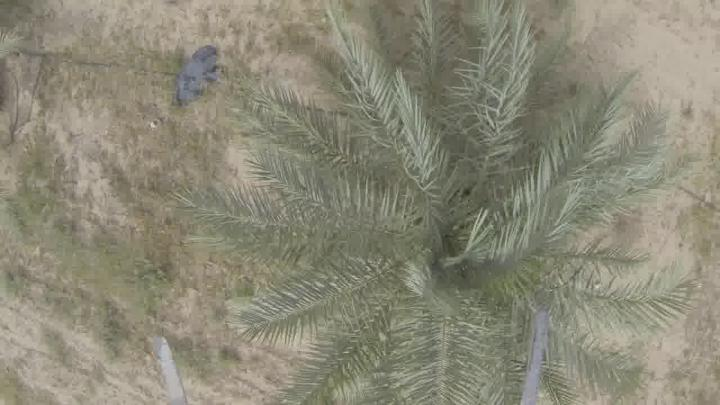Date-Palm-Crown: (330, 99, 576, 401)
